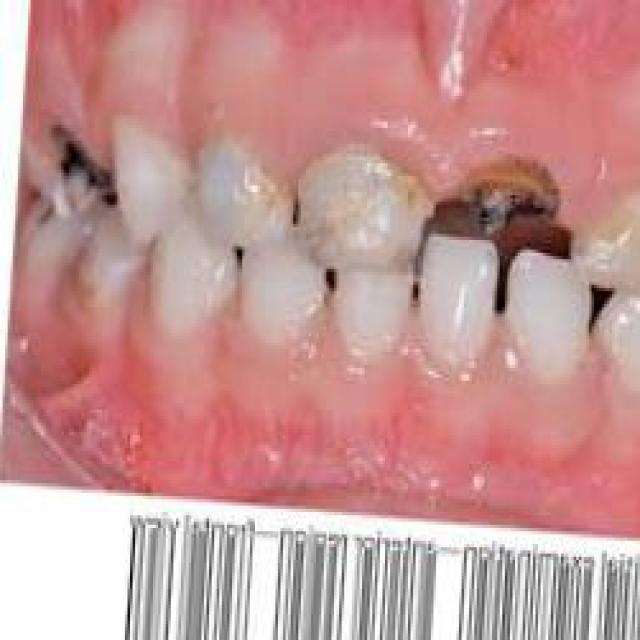caries: (448, 140, 578, 250), (34, 120, 113, 223)
